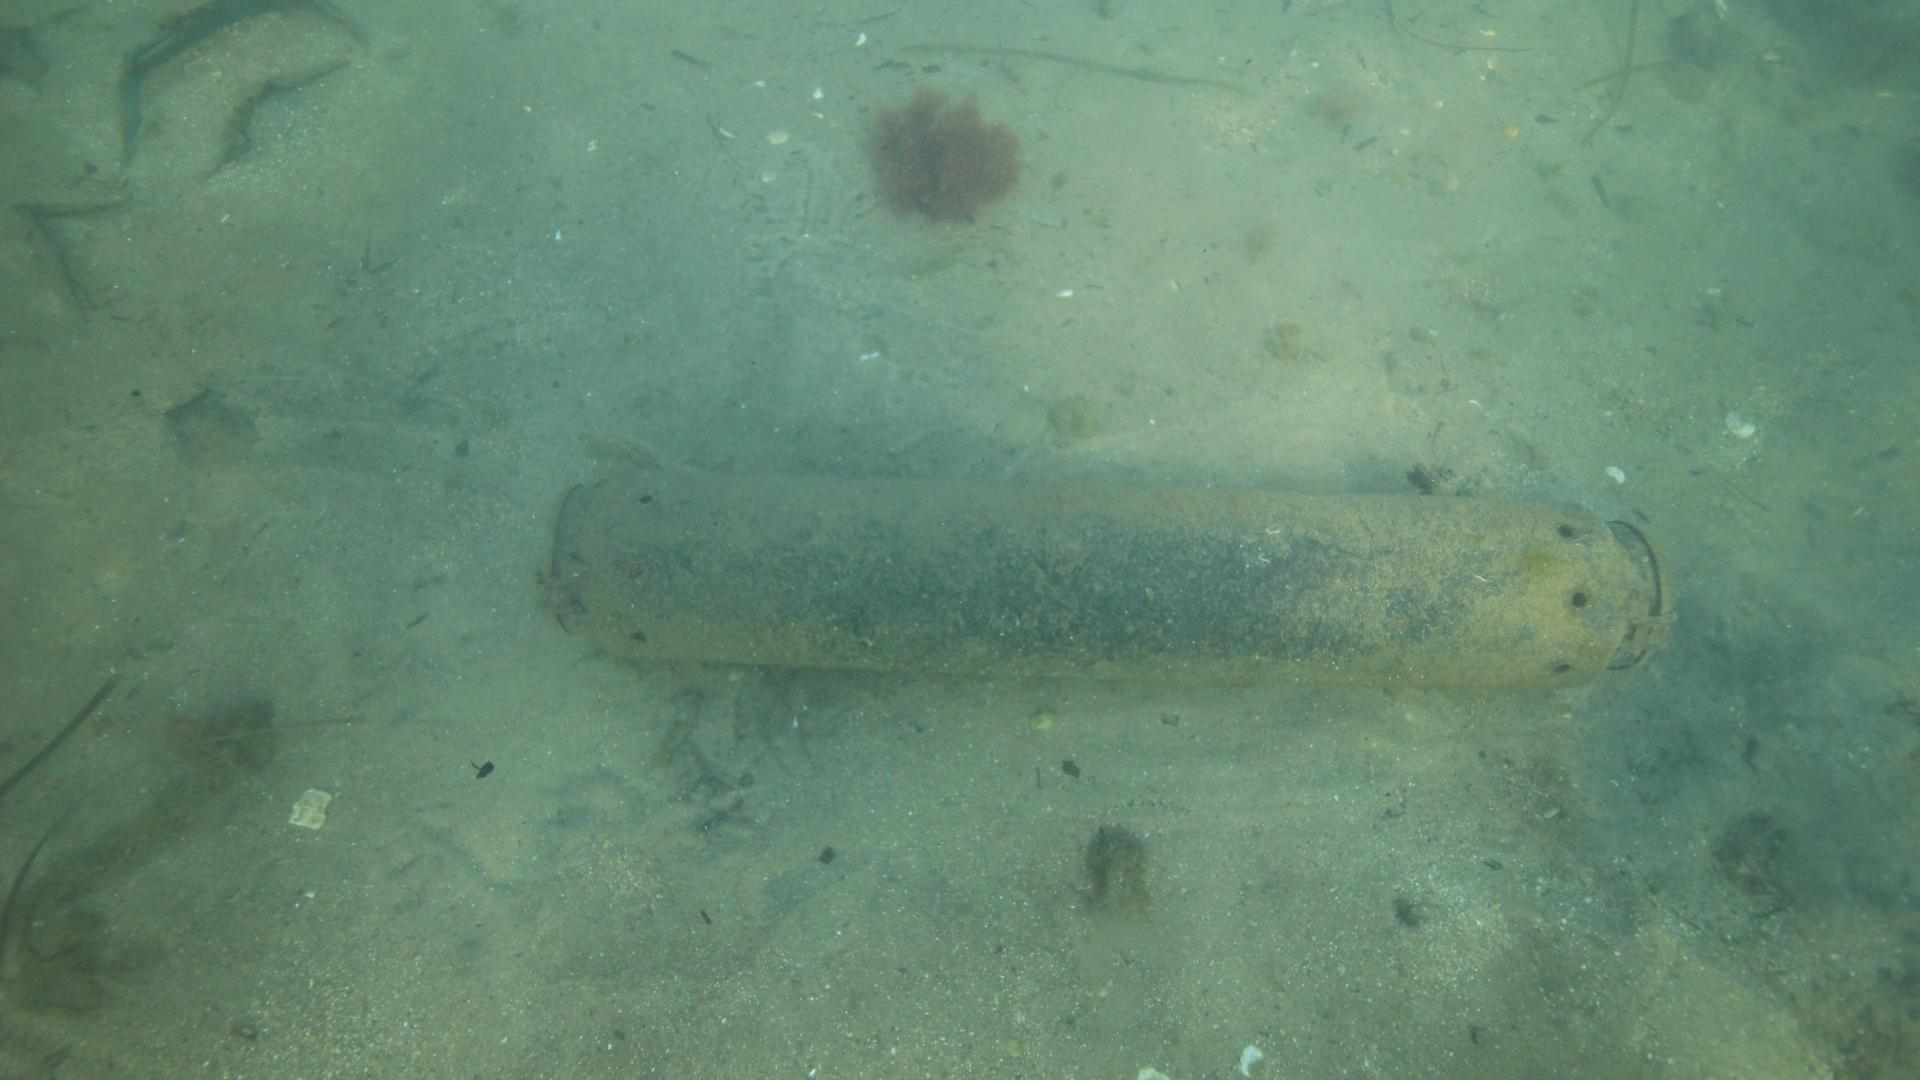eel fish trap: (537, 468, 1673, 695)
